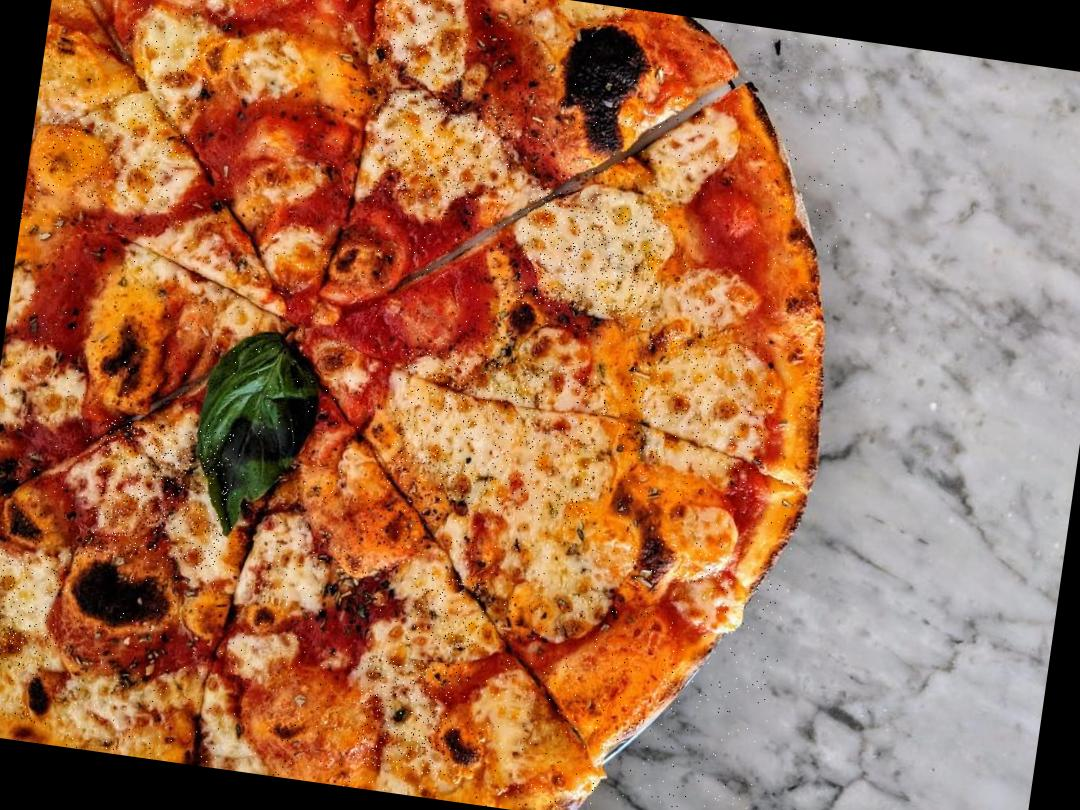Basil: (186, 332, 333, 548)
Cheese: (387, 343, 612, 521), (84, 418, 236, 574), (614, 330, 776, 476), (516, 186, 671, 322), (36, 89, 190, 212), (368, 91, 518, 213), (351, 653, 462, 777), (120, 2, 218, 113), (0, 545, 68, 683), (367, 0, 471, 86), (406, 568, 488, 651), (251, 530, 330, 608)
Pizza: (0, 0, 866, 810)
